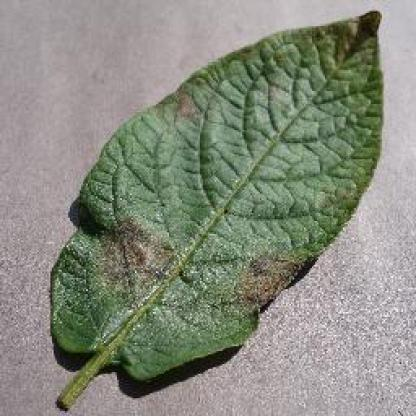bad leaf: (90, 164, 315, 310), (307, 4, 393, 68), (162, 64, 219, 118)
